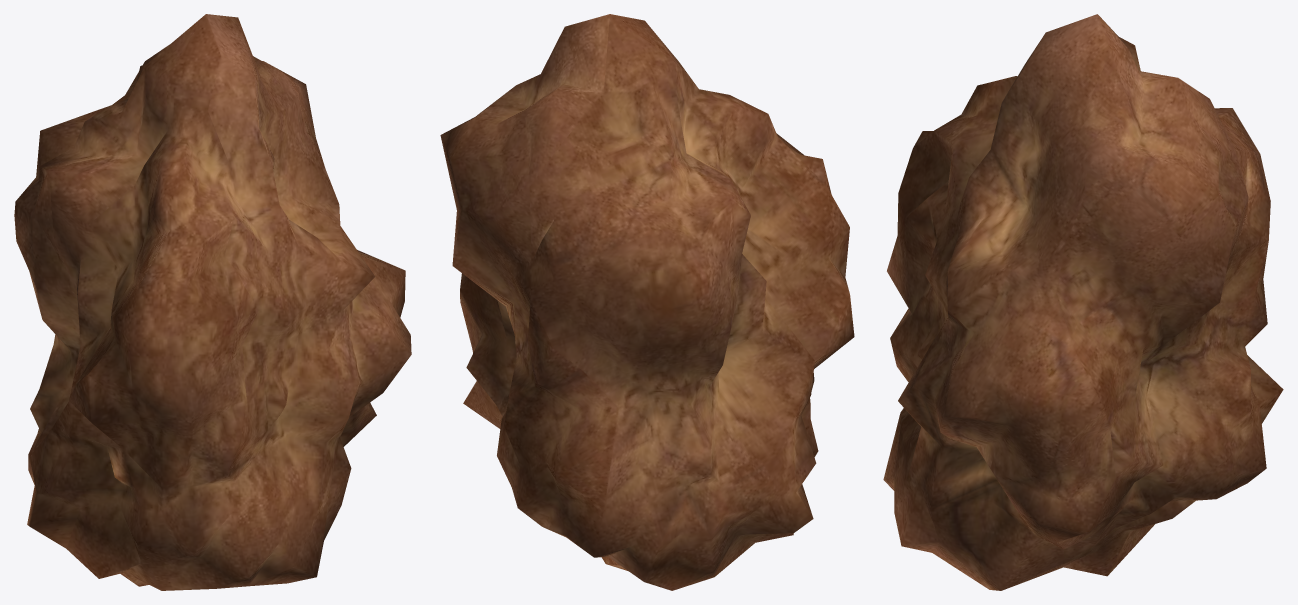
The model's file is stoneTwo.glb.
3 views of the same model, side by side, from view 1: azimuth 30°, elevation 25°; view 2: azimuth 150°, elevation 25°; view 3: azimuth 270°, elevation 25° (orthographic). The views are drawn at different scales.
Parts seen in each view (by area): view 1: Big_stones_03; view 2: Big_stones_03; view 3: Big_stones_03.
Part boxes in pixels (box(x1,y1,x2,y2)): Big_stones_03: box(14, 14, 411, 590); Big_stones_03: box(440, 14, 854, 590); Big_stones_03: box(883, 14, 1283, 590).
Bounding box in the file's own units: 0.6321 × 0.9161 × 0.5832.
Materials: 1 (1 with a texture image).
